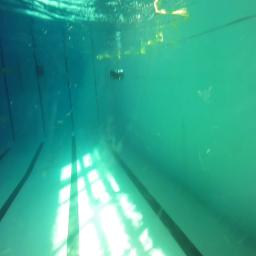Full: (109, 68, 125, 82)
